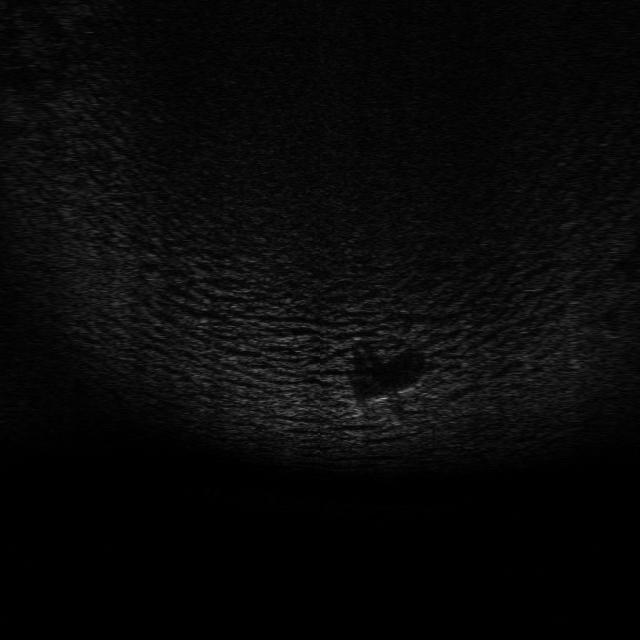plane: (347, 384, 417, 421)
